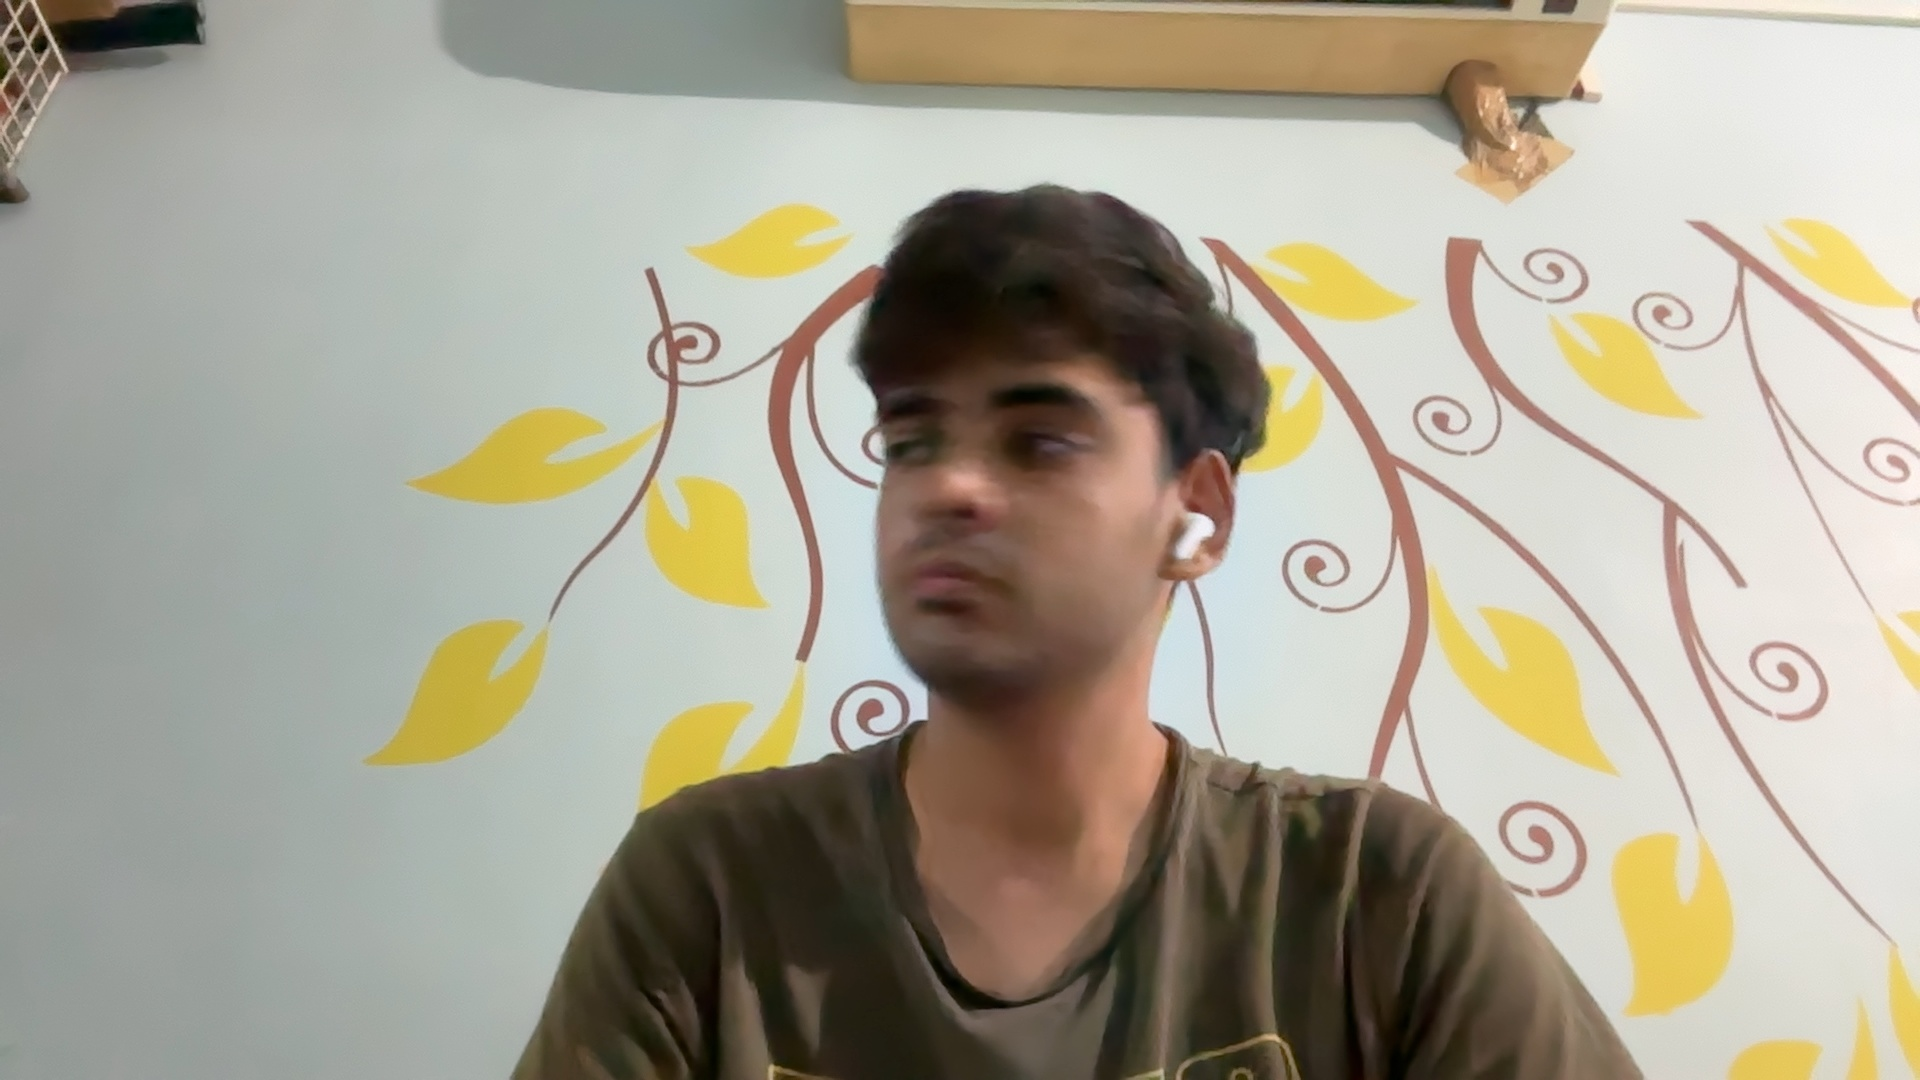No Mask: (857, 481, 1153, 709)
